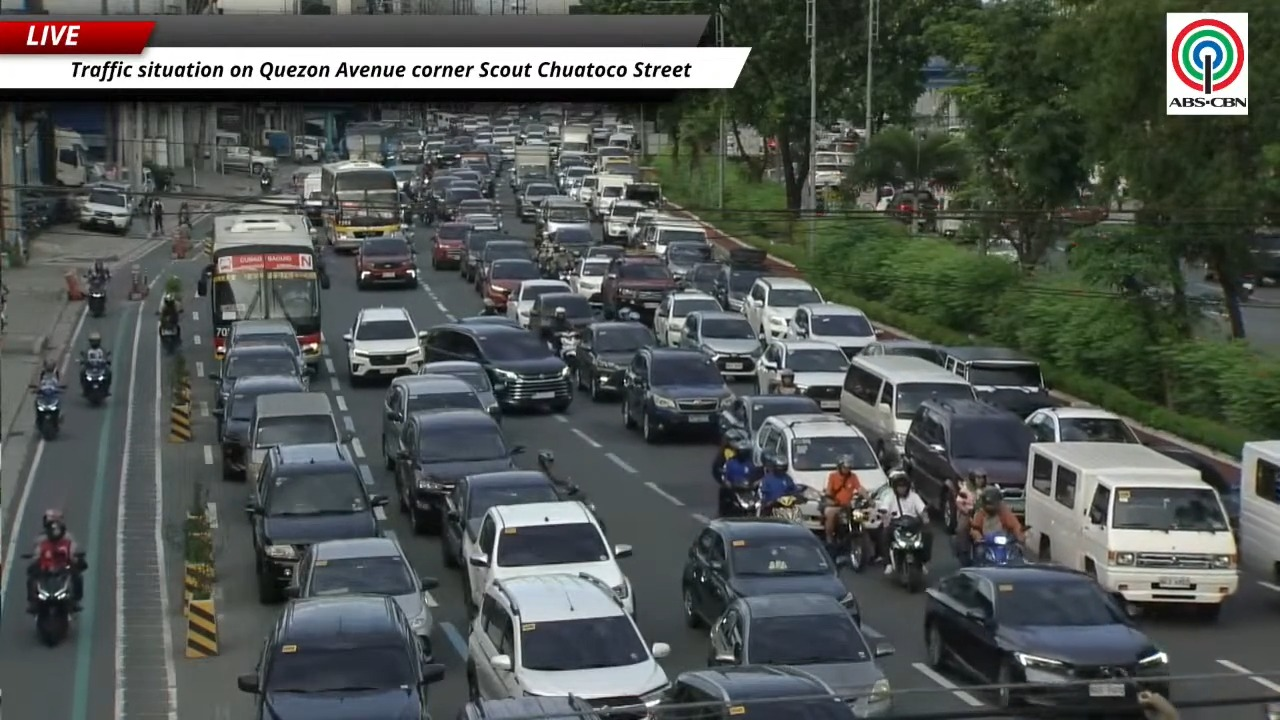bus: (197, 212, 328, 369), (320, 161, 402, 251), (343, 122, 400, 163)
car: (923, 565, 1168, 712), (466, 573, 669, 709), (237, 595, 444, 719), (708, 594, 893, 717), (246, 444, 386, 602), (681, 518, 860, 627), (463, 500, 634, 614), (287, 537, 437, 660), (903, 399, 1033, 529), (394, 409, 523, 532), (753, 414, 887, 528), (442, 470, 580, 567), (426, 323, 572, 411), (381, 374, 500, 469), (652, 665, 861, 719), (621, 347, 732, 442), (213, 374, 306, 478), (944, 346, 1064, 417), (1151, 445, 1240, 530), (571, 321, 656, 400), (342, 307, 425, 385), (757, 340, 848, 411), (208, 344, 306, 408), (679, 310, 761, 378), (718, 395, 821, 445), (742, 276, 823, 337), (786, 303, 876, 357), (601, 255, 676, 318), (419, 361, 500, 416), (1025, 407, 1141, 443), (653, 290, 721, 345), (223, 319, 306, 364), (712, 247, 766, 311), (457, 695, 601, 719), (355, 234, 417, 289), (482, 258, 541, 314), (505, 279, 570, 328), (528, 289, 595, 336), (473, 240, 532, 291), (79, 186, 132, 234), (535, 196, 590, 238), (459, 231, 505, 281), (885, 189, 939, 231), (860, 339, 945, 365), (569, 257, 609, 305), (664, 242, 711, 282), (431, 223, 471, 269), (625, 209, 674, 246), (602, 200, 644, 243), (439, 179, 483, 220), (516, 180, 557, 221), (545, 226, 597, 256), (679, 262, 720, 295), (455, 314, 522, 328), (461, 212, 502, 230), (459, 199, 500, 215), (584, 244, 624, 260)
motorcycle: (537, 450, 606, 532), (828, 496, 873, 571), (34, 567, 73, 646), (888, 516, 925, 592), (32, 383, 64, 440), (972, 530, 1024, 565), (719, 480, 759, 516), (81, 361, 109, 405), (770, 493, 805, 524), (553, 331, 579, 365), (86, 278, 106, 317), (158, 320, 180, 355), (259, 171, 272, 193)
truck: (53, 127, 92, 186), (219, 146, 277, 174), (513, 145, 551, 186), (560, 125, 590, 153)
